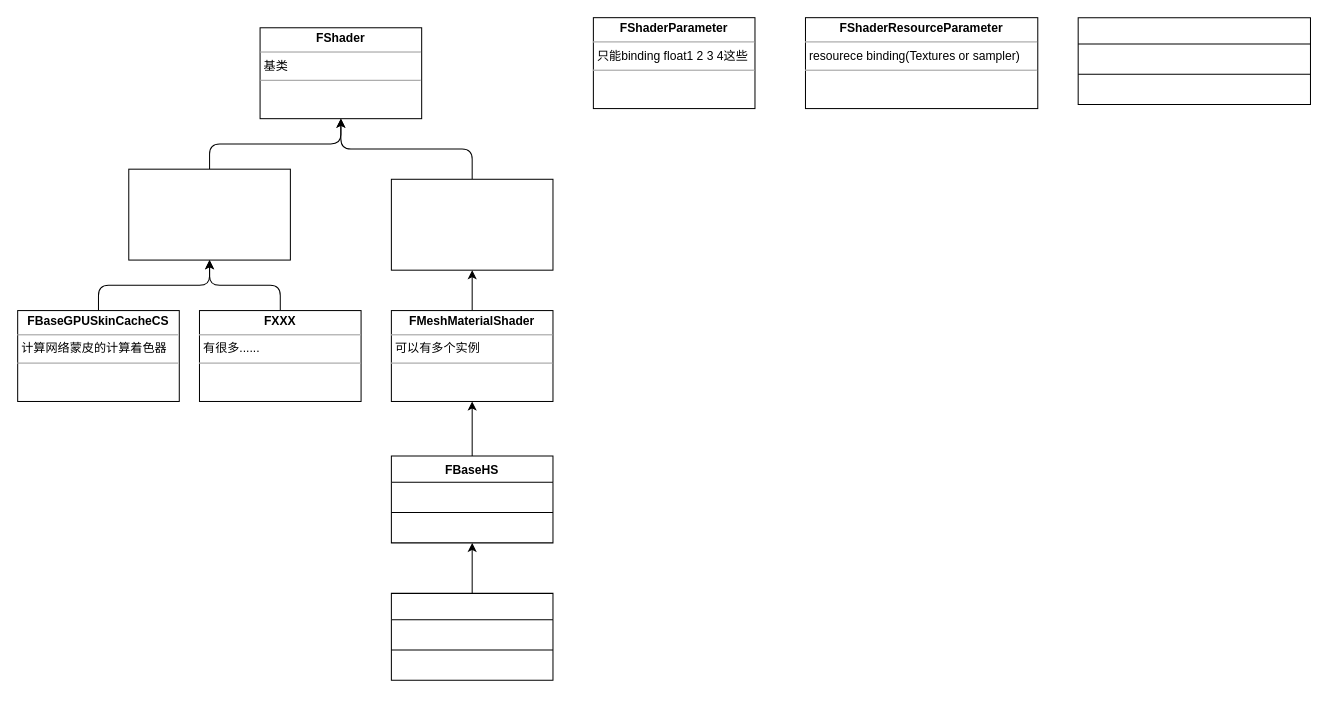
Some shapes in this 1328 by 701 pixel diagram are drawn without their labels. Here are the shapes that lost their labels. From the top down, the centre of each, then its label:
At [1193,61]: "FShaderUniformBufferParameter".
At [209,214]: "FGlobalS hader 全局只有一个实例 参数固定".
At [471,224]: "FMaterialShader 可以有多个实例 SetParameters 跟HLSL绑定参数".
At [471,636]: "FDepthOnlyHS".
